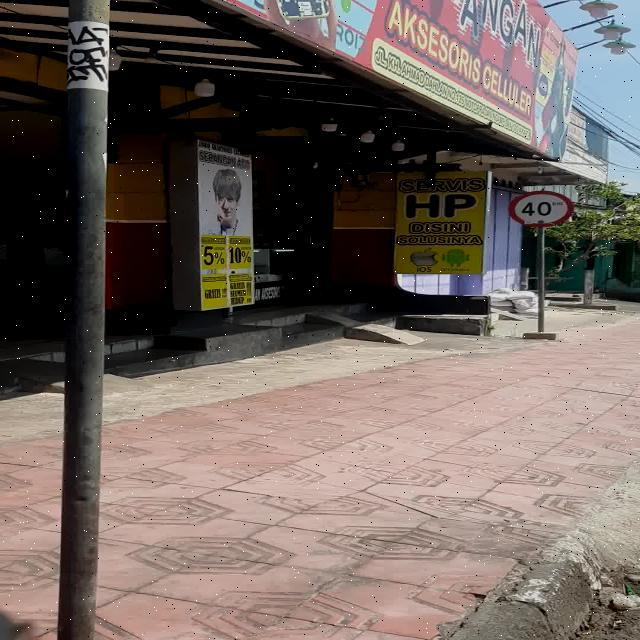Kecepatan Maks. 40 km: (509, 190, 574, 228)
